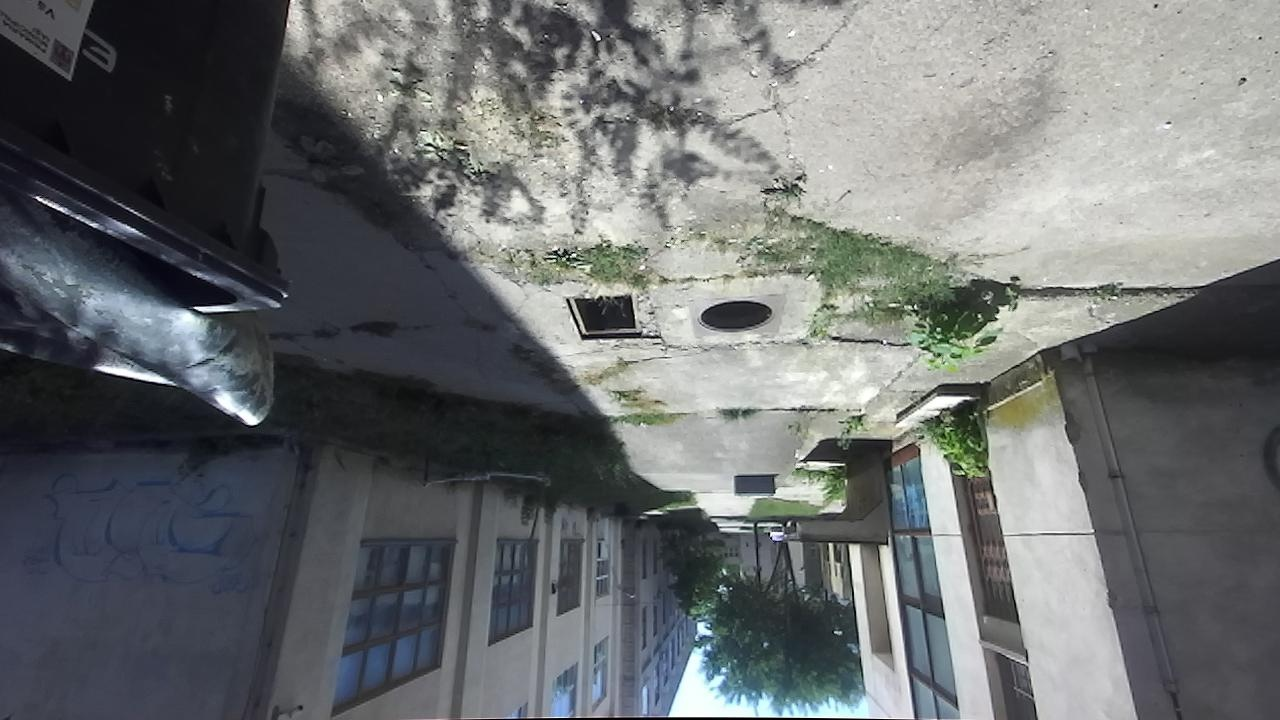drain: (559, 289, 644, 344), (690, 299, 775, 334)
